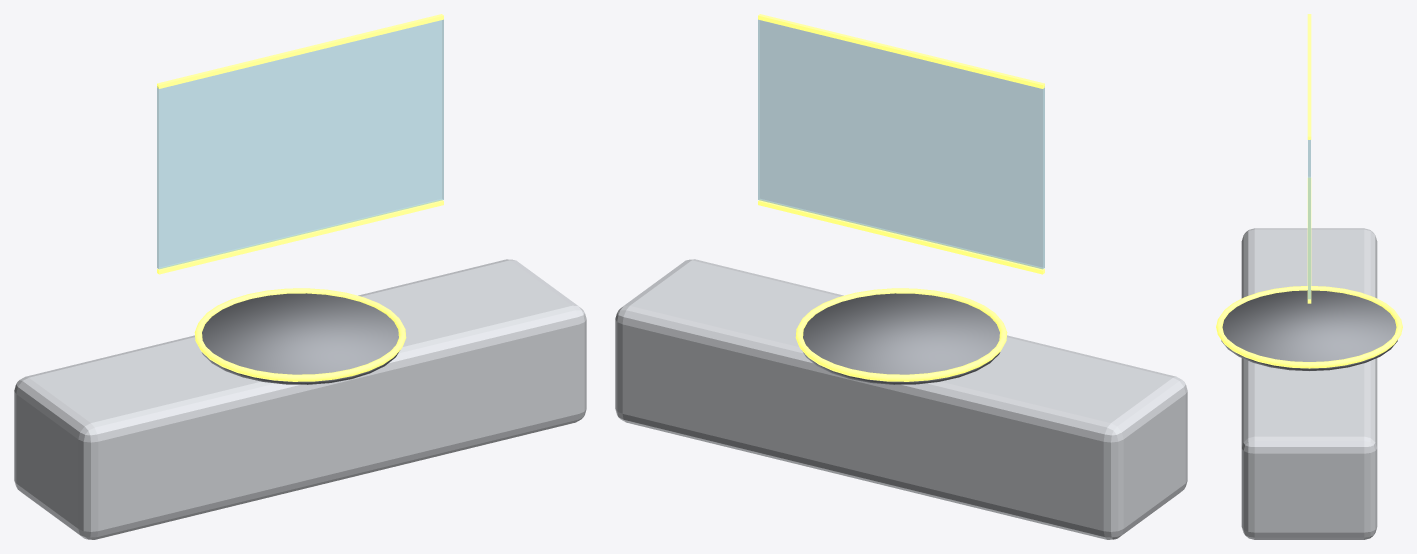
Rendered from tv_unit_holo_stand.glb.
The picture shows the model from 3 angles, left to right: view 1: azimuth 30°, elevation 25°; view 2: azimuth 150°, elevation 25°; view 3: azimuth 270°, elevation 25°; orthographic projection. The views are drawn at different scales.
Visible parts, largest first — view 1: GD_tv_unit_holo_stand__m0, GD_tv_unit_holo_stand__m3, GD_tv_unit_holo_stand__m1, GD_tv_unit_holo_stand__m2; view 2: GD_tv_unit_holo_stand__m0, GD_tv_unit_holo_stand__m3, GD_tv_unit_holo_stand__m1, GD_tv_unit_holo_stand__m2; view 3: GD_tv_unit_holo_stand__m0, GD_tv_unit_holo_stand__m1, GD_tv_unit_holo_stand__m2, GD_tv_unit_holo_stand__m3.
Part boxes in pixels (x1=…): GD_tv_unit_holo_stand__m0: x1=14, y1=259, x2=586, y2=539; GD_tv_unit_holo_stand__m3: x1=157, y1=19, x2=443, y2=269; GD_tv_unit_holo_stand__m1: x1=201, y1=293, x2=399, y2=384; GD_tv_unit_holo_stand__m2: x1=157, y1=14, x2=443, y2=381; GD_tv_unit_holo_stand__m0: x1=615, y1=259, x2=1187, y2=539; GD_tv_unit_holo_stand__m3: x1=758, y1=19, x2=1044, y2=269; GD_tv_unit_holo_stand__m1: x1=802, y1=293, x2=1000, y2=384; GD_tv_unit_holo_stand__m2: x1=758, y1=14, x2=1044, y2=381; GD_tv_unit_holo_stand__m0: x1=1241, y1=228, x2=1377, y2=539; GD_tv_unit_holo_stand__m1: x1=1221, y1=290, x2=1397, y2=370; GD_tv_unit_holo_stand__m2: x1=1216, y1=14, x2=1402, y2=368; GD_tv_unit_holo_stand__m3: x1=1308, y1=140, x2=1310, y2=299.
Bounding box in the file's own units: 1.6 × 1.23 × 0.58.
